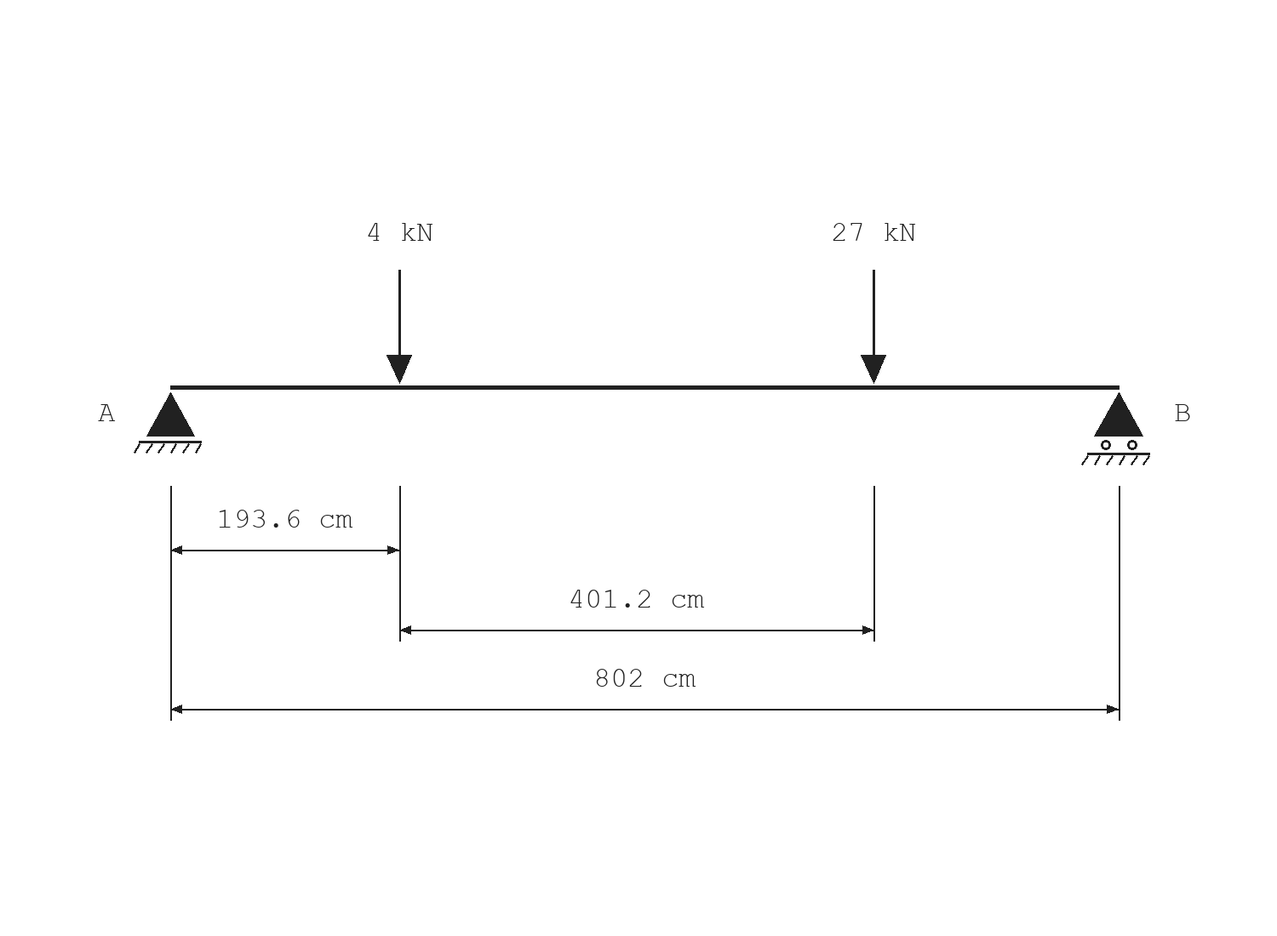pin_support: (134, 392, 202, 454)
point_load: (387, 270, 412, 384), (861, 270, 886, 384)
roller_support: (1081, 392, 1150, 465)
